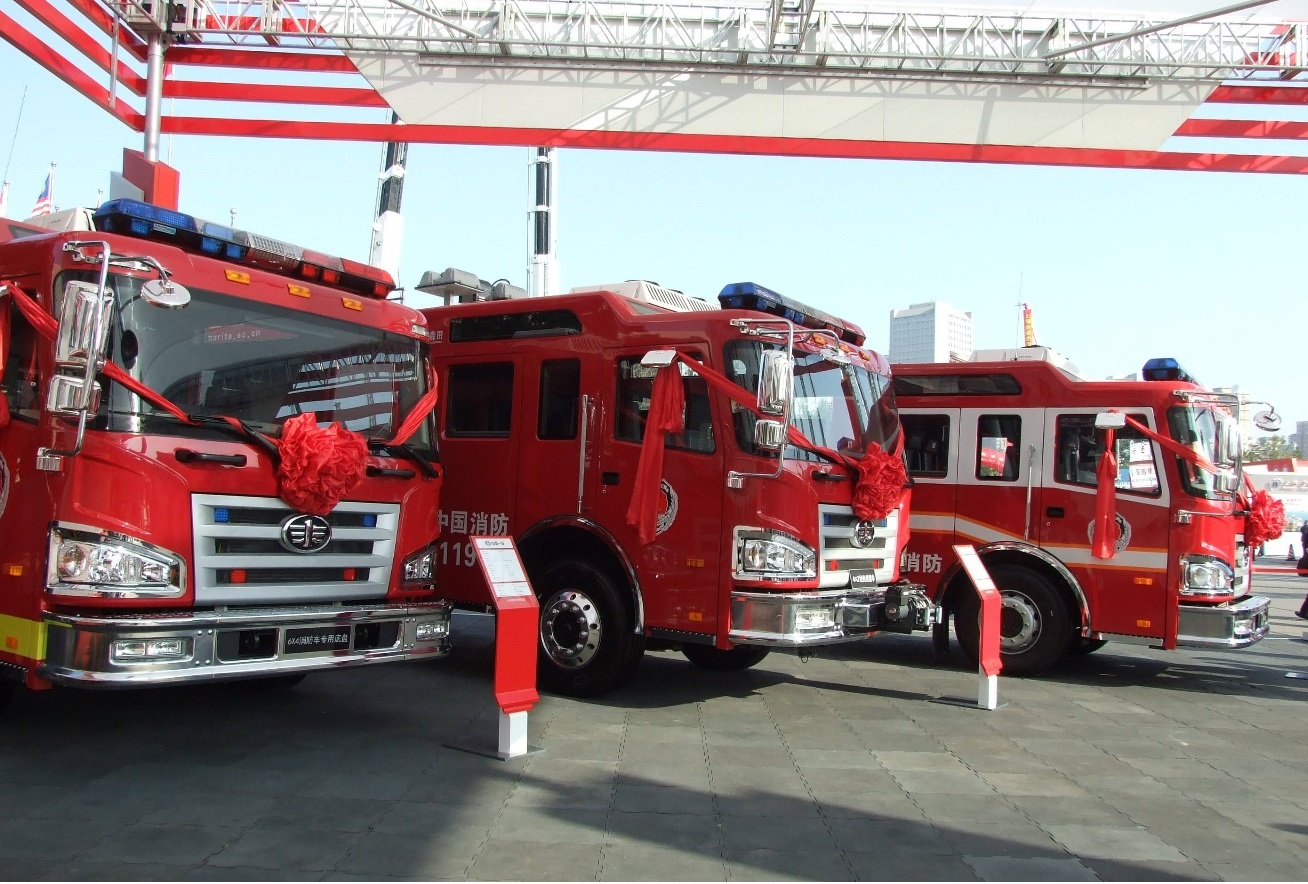fire engine: (414, 266, 928, 668)
